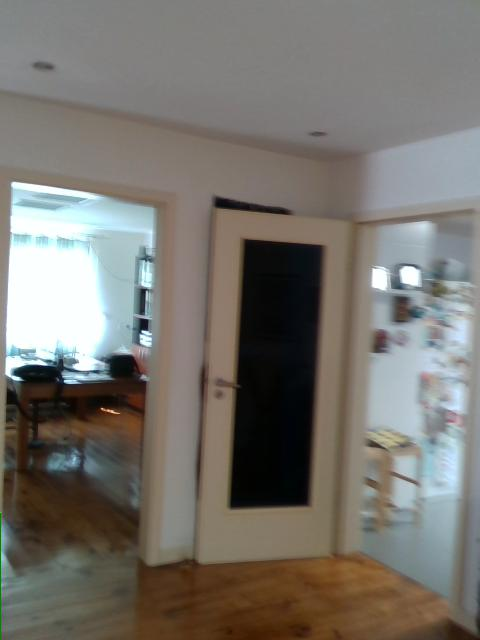door: (195, 207, 352, 566)
